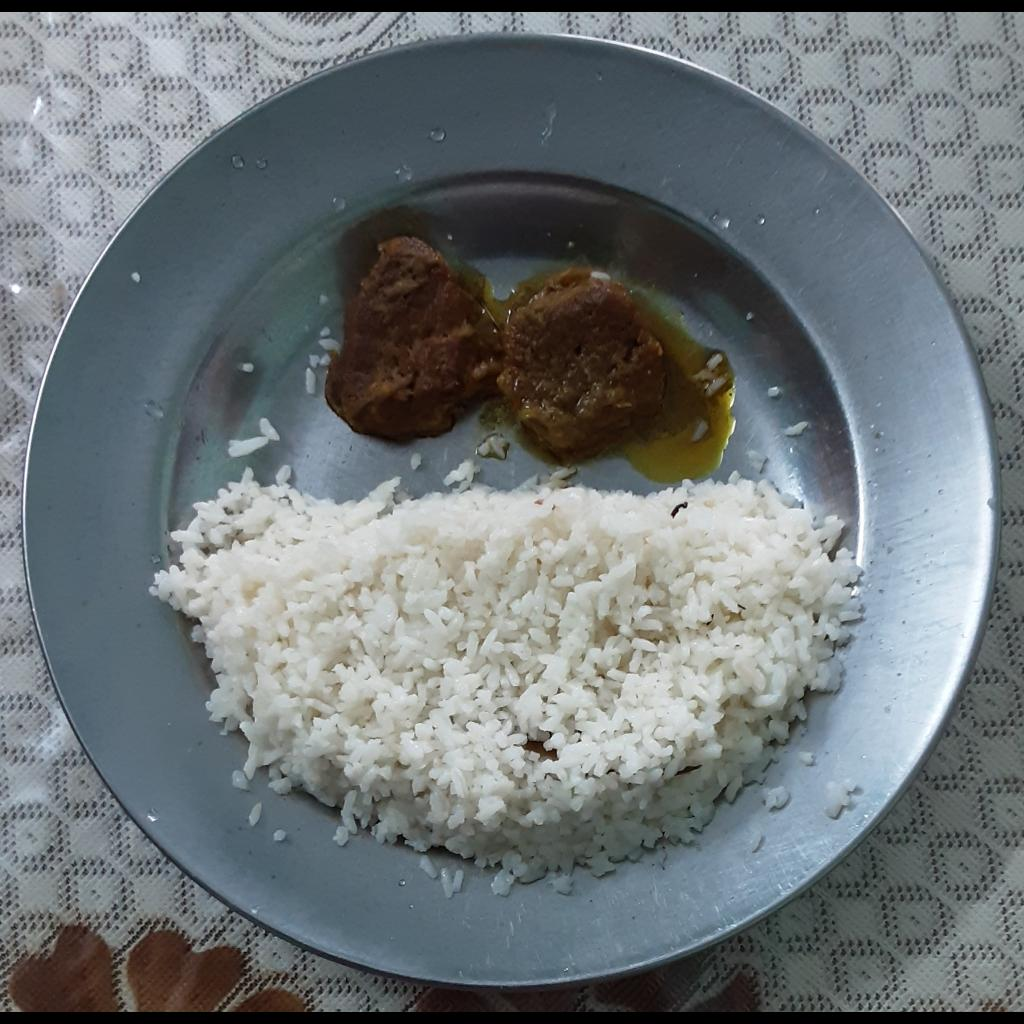beef: (328, 232, 666, 459)
rice: (149, 417, 863, 898)
